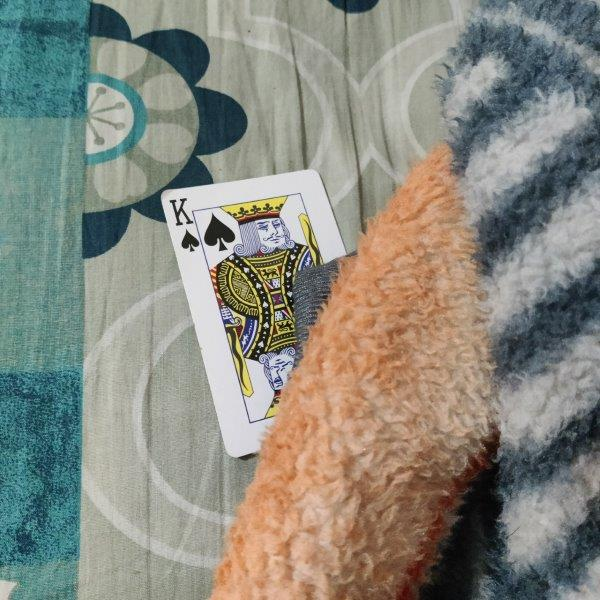King of Spades: (160, 168, 346, 459)
